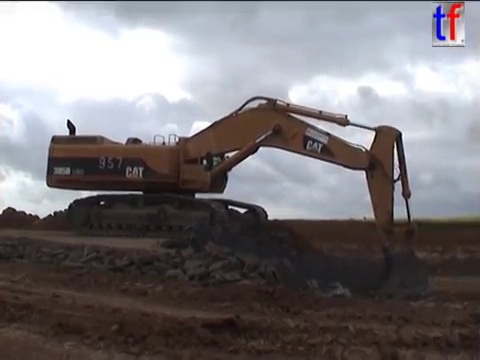excavator: (42, 93, 432, 307)
